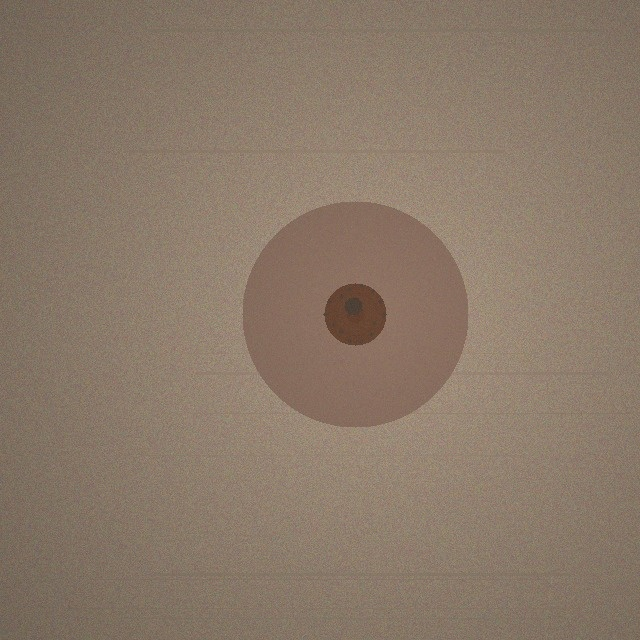cold_weld: (242, 201, 468, 427)
